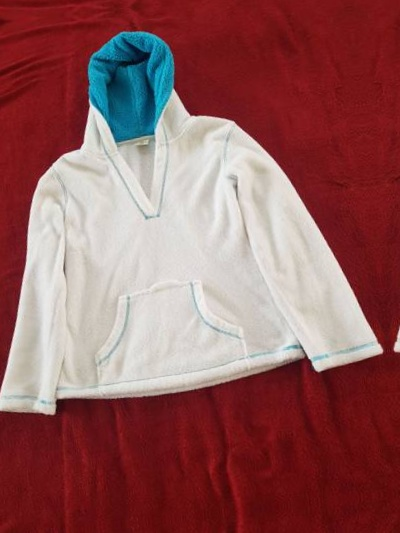Hoodie: (0, 7, 392, 441), (352, 0, 400, 396), (0, 0, 342, 2)
